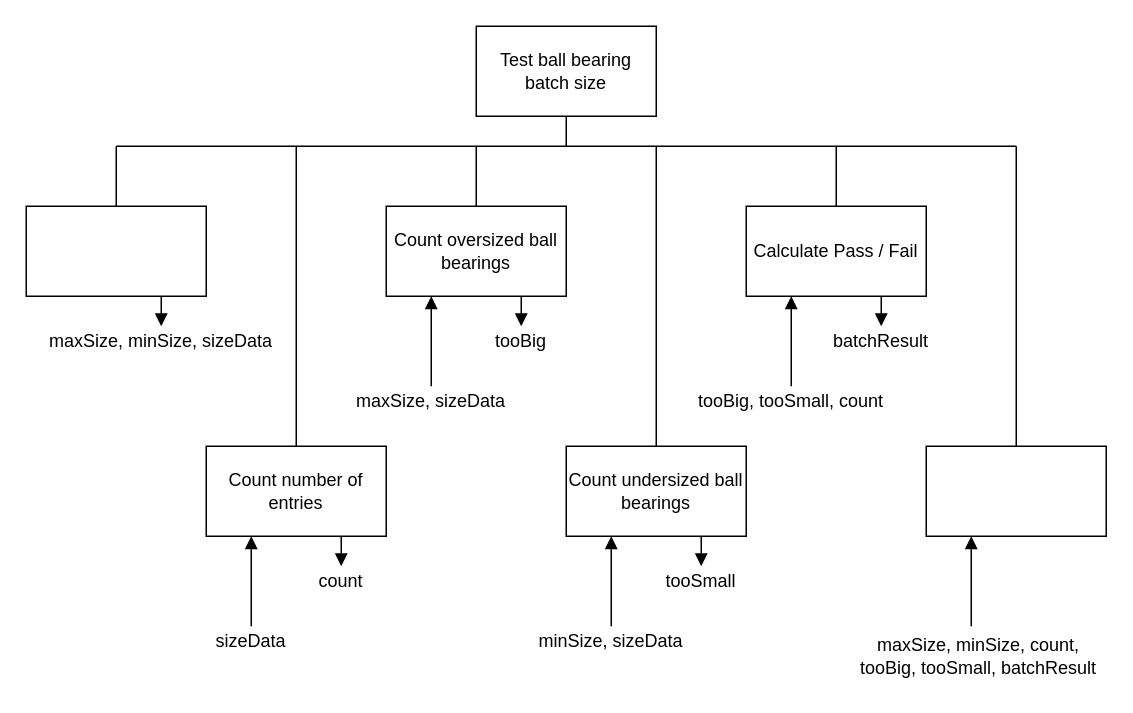
Some shapes in this 1133 by 713 pixel diagram are drawn without their labels. The centre of each missing label's shape, as x and y in pixels:
Display information: (x=1015, y=490)
Get limits and results data from csv file: (x=115, y=250)
